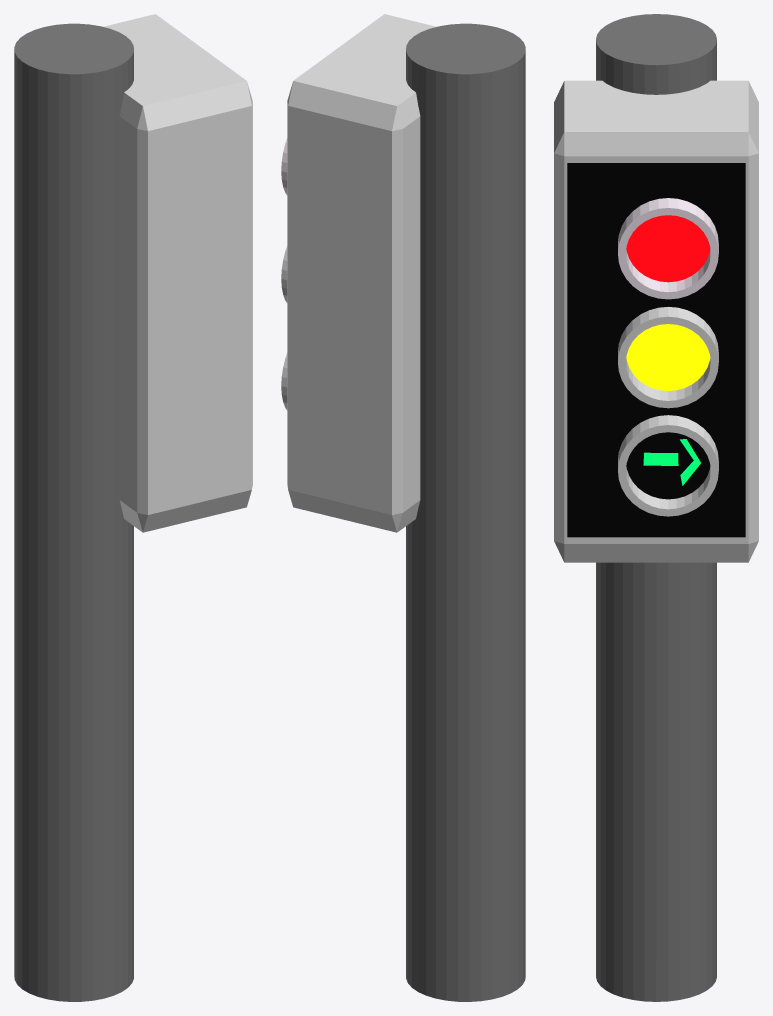
Rendered from uk_traffic_light_1C.fbx.
3 views of the same model, side by side, from view 1: azimuth 30°, elevation 25°; view 2: azimuth 150°, elevation 25°; view 3: azimuth 270°, elevation 25° (orthographic).
Visible parts, largest first — view 1: Cylinder, Cube; view 2: Cylinder, Cube; view 3: Cube, Cylinder, Circle, Circle.002, Circle.001.
Part boxes in pixels (x1,y1,x2,y2): Cylinder: [14, 23, 133, 1001]; Cube: [103, 14, 252, 532]; Cylinder: [406, 23, 525, 1001]; Cube: [287, 14, 436, 532]; Cube: [554, 80, 758, 562]; Cylinder: [596, 14, 716, 1001]; Circle: [618, 198, 718, 299]; Circle.002: [618, 415, 718, 516]; Circle.001: [618, 306, 718, 408].
Size of the model in its own units: 7.13 by 30.7 by 6.09.
